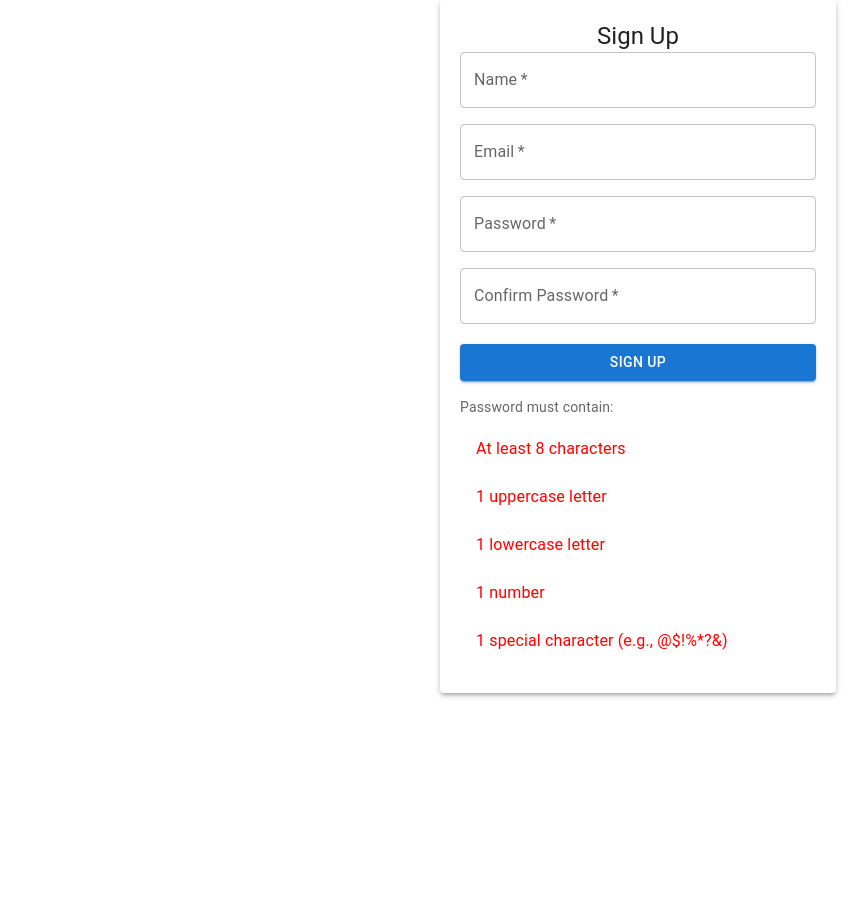
Test case: Signup Component › displays error message for mismatched passwords
In the field labelled "Name *": coordinates (638, 80) [460, 52, 816, 108], type "Test User"
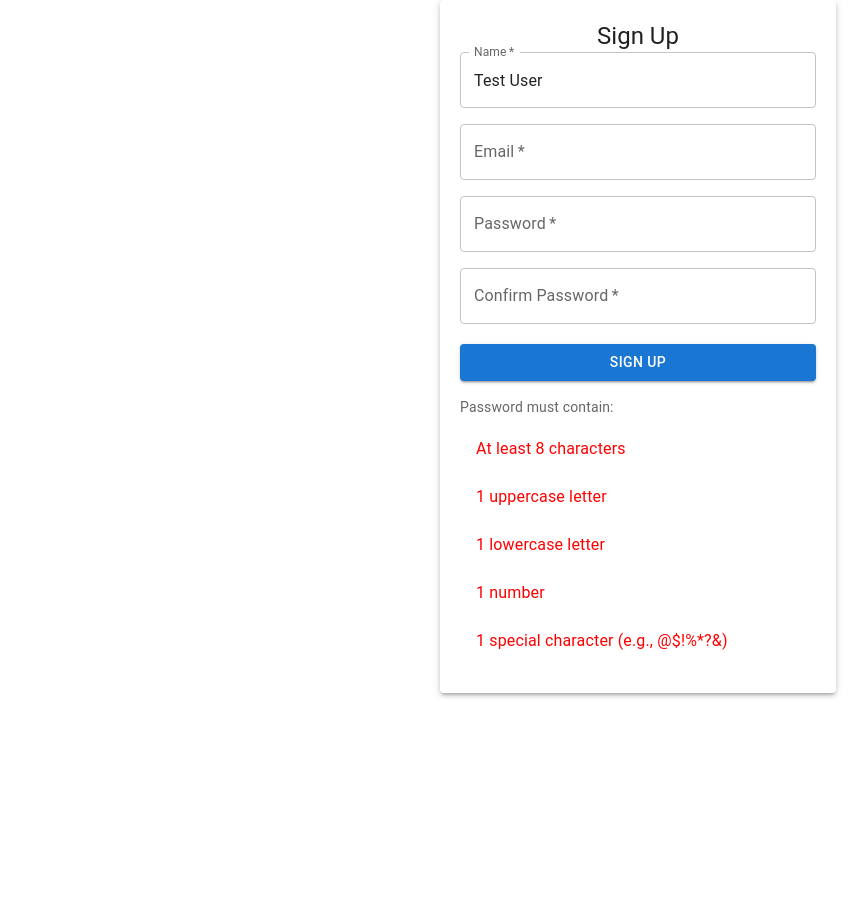
In the field labelled "Email *": coordinates (638, 152) [460, 124, 816, 180], type "test@example.com"
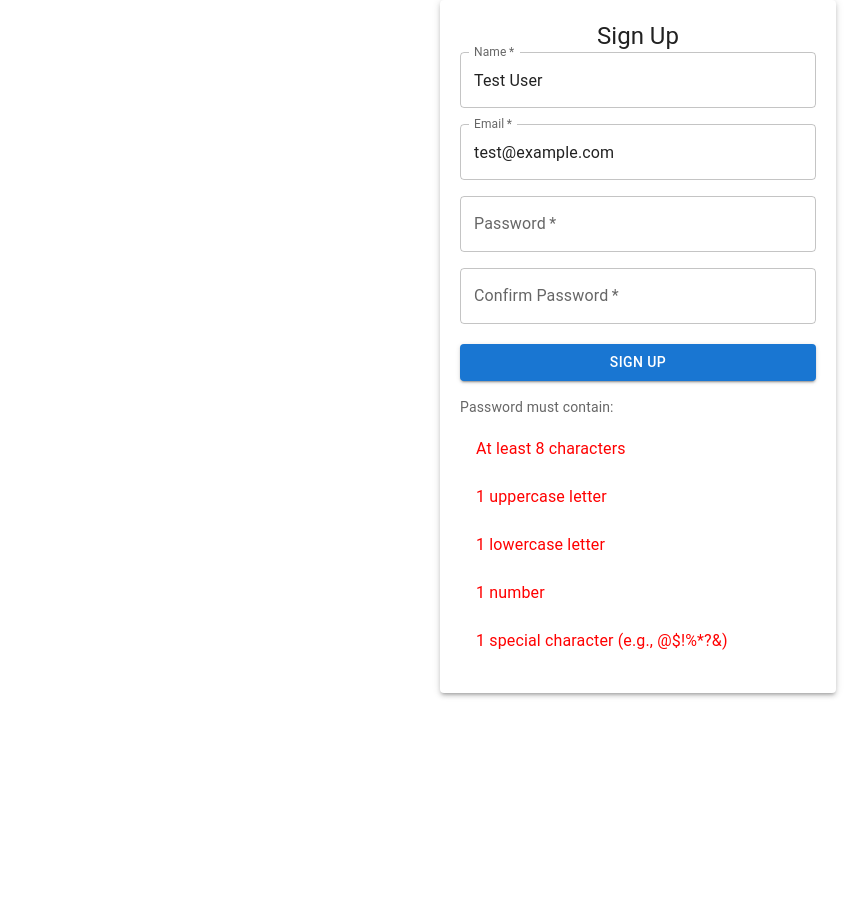
In the password field labelled "Password *": coordinates (638, 224) [460, 196, 816, 252], type "StrongPass1!"
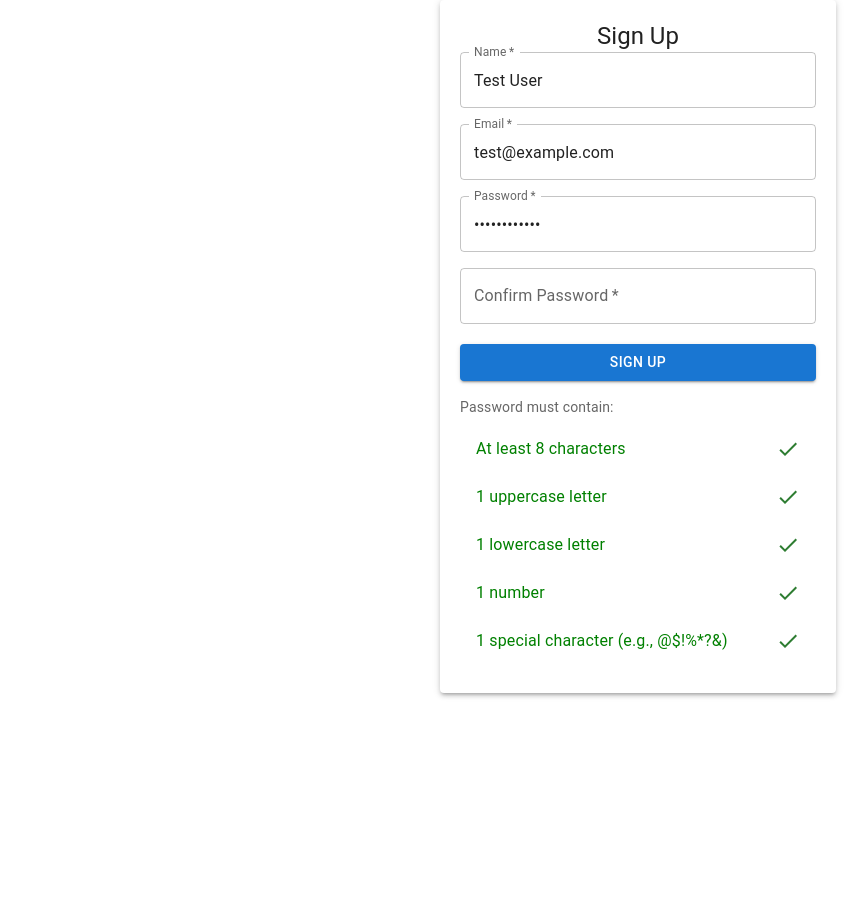
In the password field labelled "Confirm Password *": coordinates (638, 296) [460, 268, 816, 324], type "DifferentPass1!"
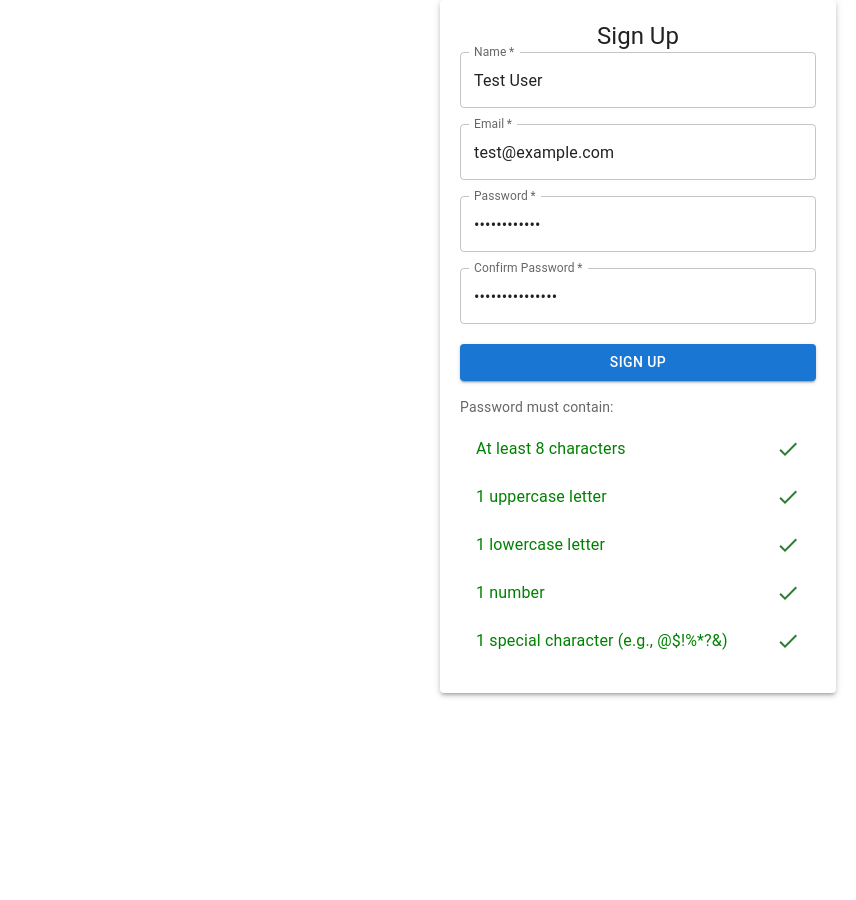
Click the button "Sign Up": coordinates (638, 362) [460, 344, 816, 380]
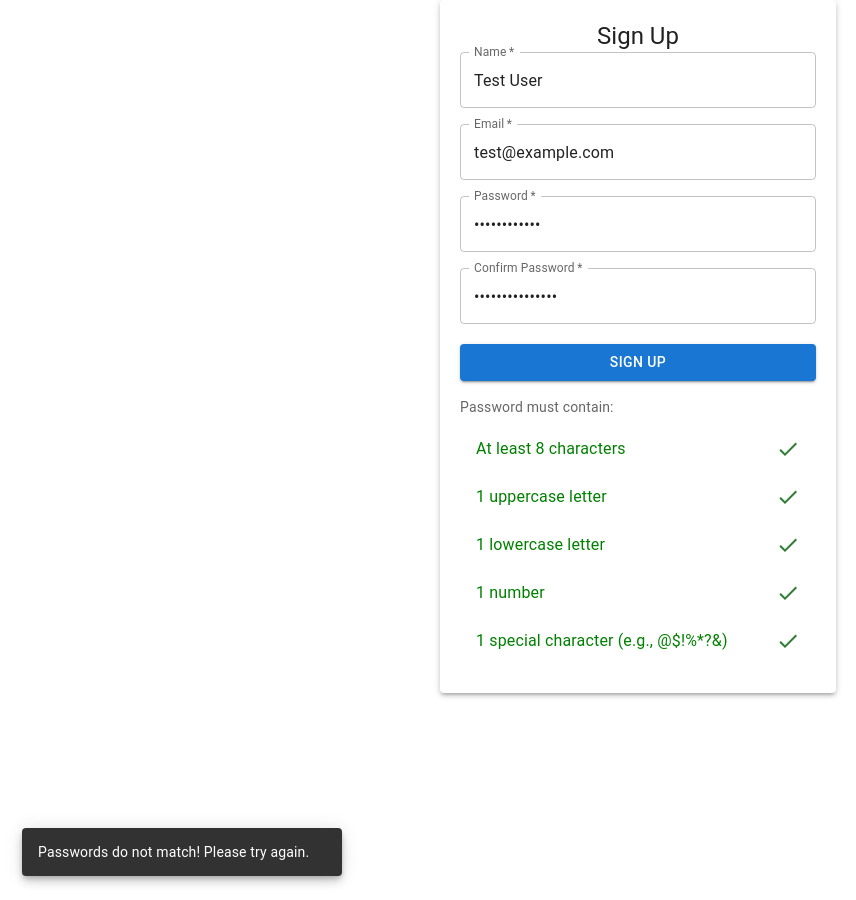
Check: the text "Passwords do not match! Please try again." is shown, box [38, 844, 309, 860]
